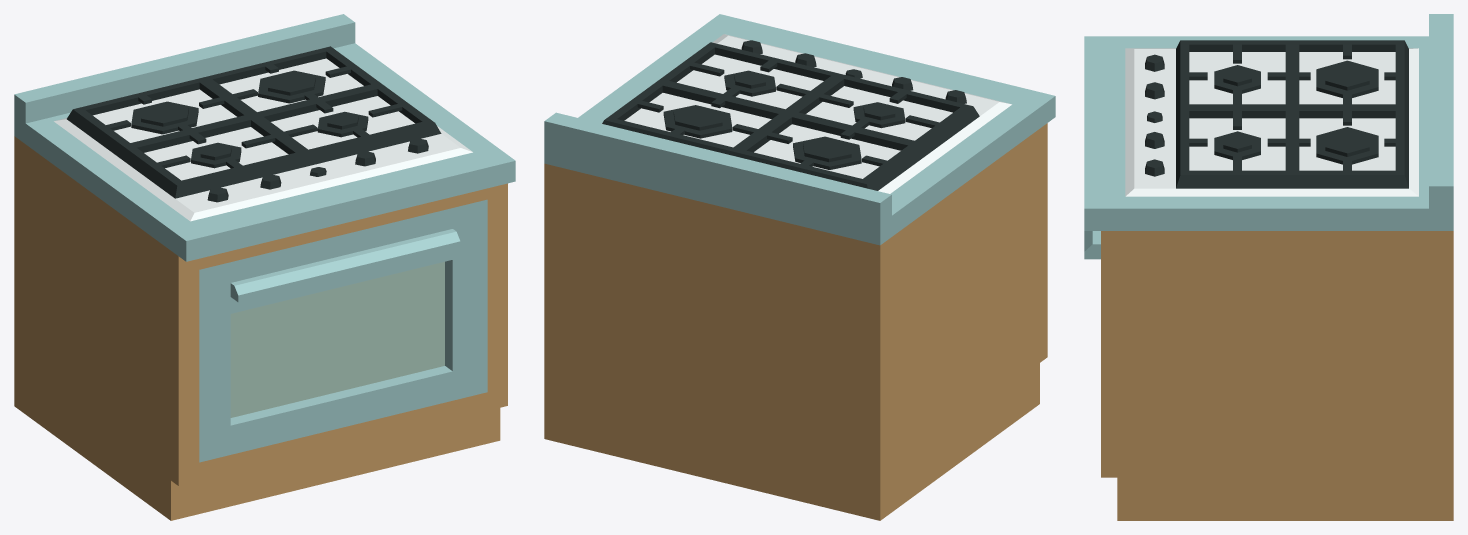
Rendered from f_oven.glb.
3 views of the same model, side by side, from view 1: azimuth 30°, elevation 25°; view 2: azimuth 150°, elevation 25°; view 3: azimuth 270°, elevation 25° (orthographic). The views are drawn at different scales.
Visible parts, largest first — view 1: body; view 2: body; view 3: body.
Part boxes in pixels (box(x1,y1,x2,y2)): body: box(14, 14, 515, 520); body: box(544, 14, 1055, 520); body: box(1084, 14, 1453, 520).
Size of the model in its own units: 0.995 by 0.9 by 0.9.
